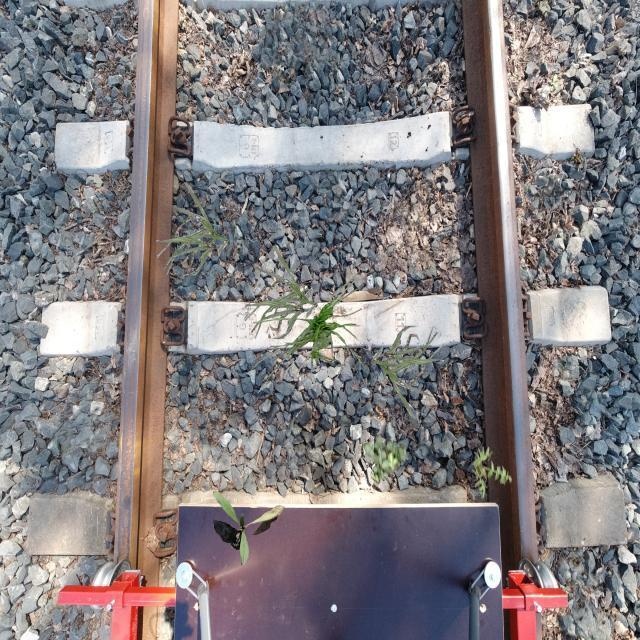Plant: (251, 271, 369, 394), (157, 182, 230, 276), (245, 246, 318, 339), (371, 326, 444, 419), (213, 491, 284, 566), (471, 446, 512, 500), (363, 434, 406, 484)
